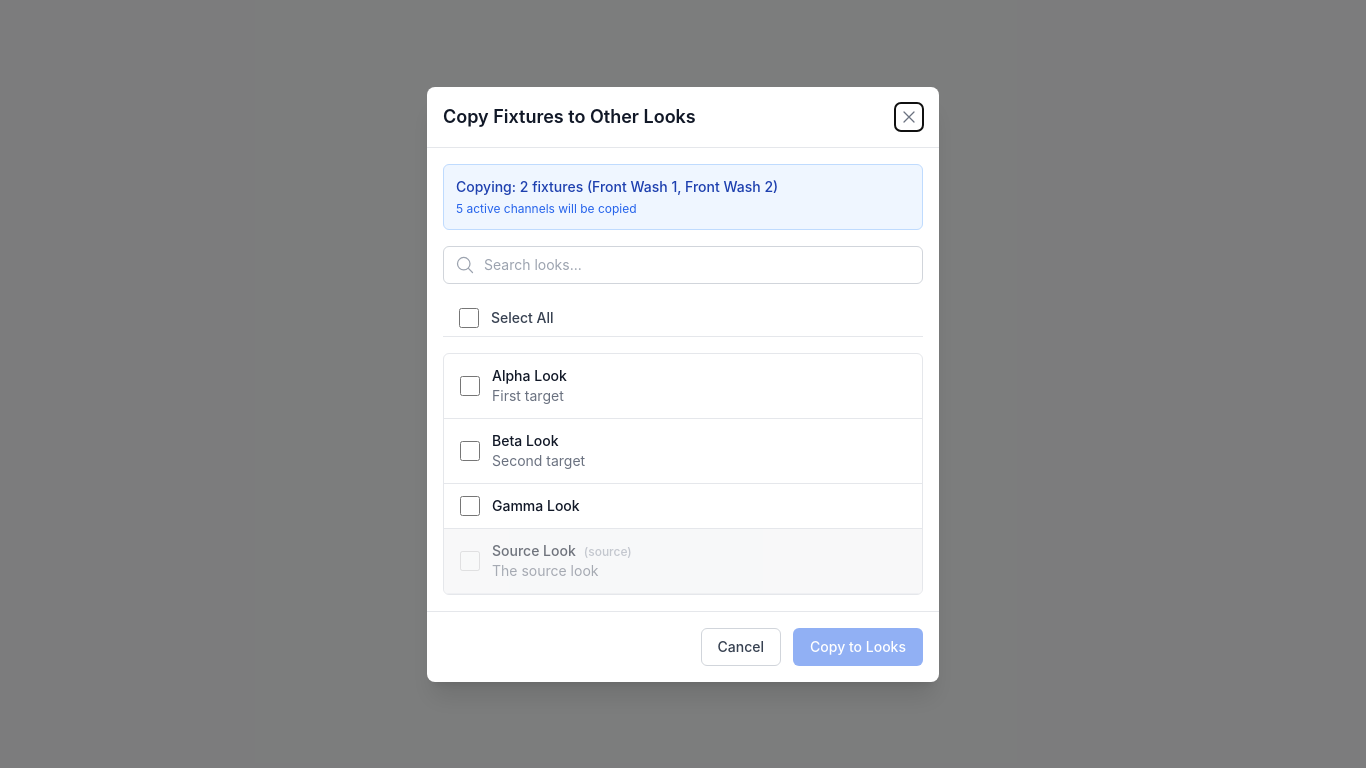
Test: CopyFixturesToLooksModal › look-centric mode › filters looks by search query
The width and height of the screenshot is (1366, 768).
Check: the text "Alpha Look" is shown, box [492,366,567,384]
Type "Beta" into the field with placeholder "Search looks...". click: (683, 264)
box: [443,246,923,284]
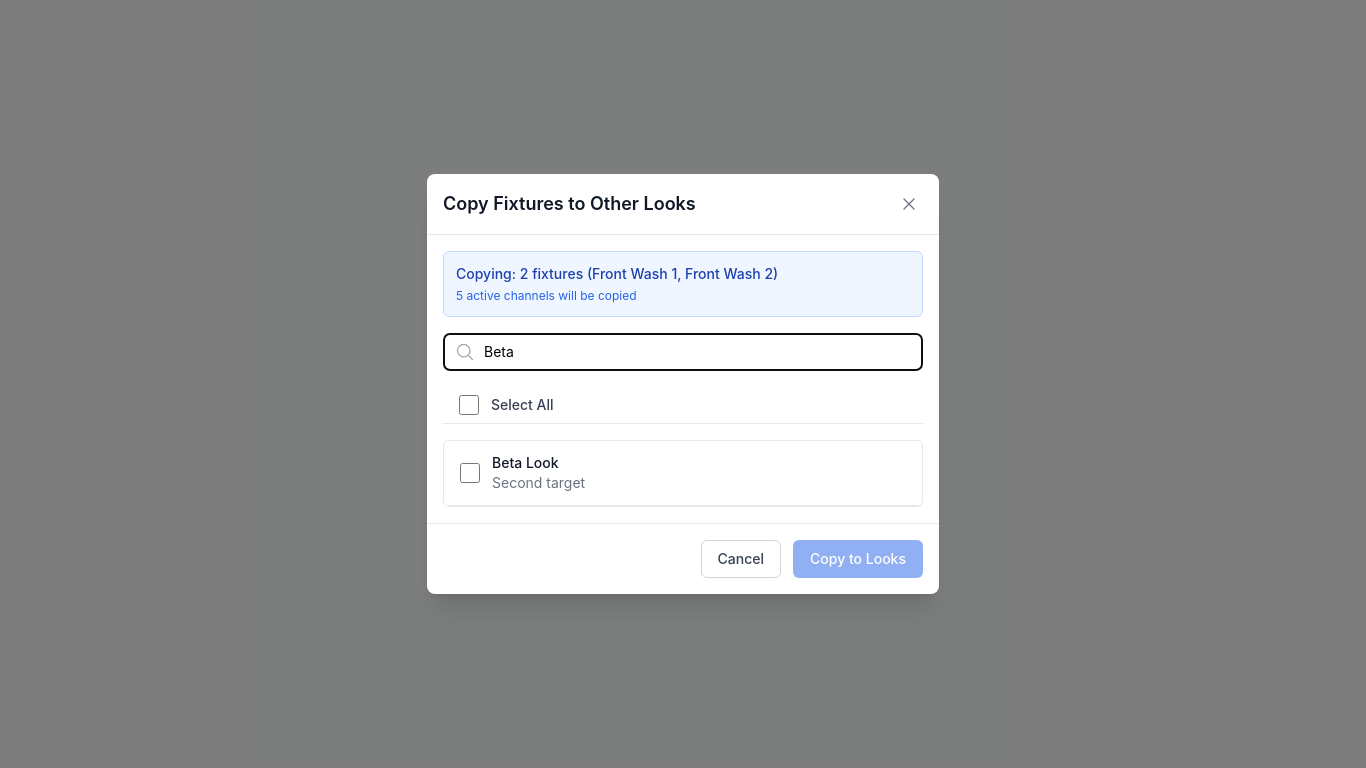
Check: the text "Beta Look" is shown, box [492,454,559,471]
Check: the text "Alpha Look" is gone
Check: the text "Gamma Look" is gone
